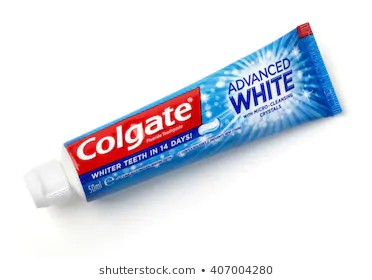colgate-small: (28, 17, 345, 213)
